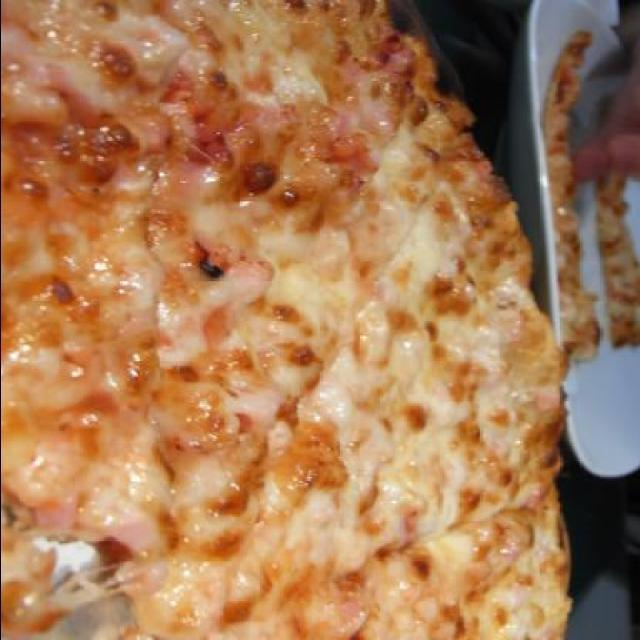Pizza: (2, 0, 570, 640)
